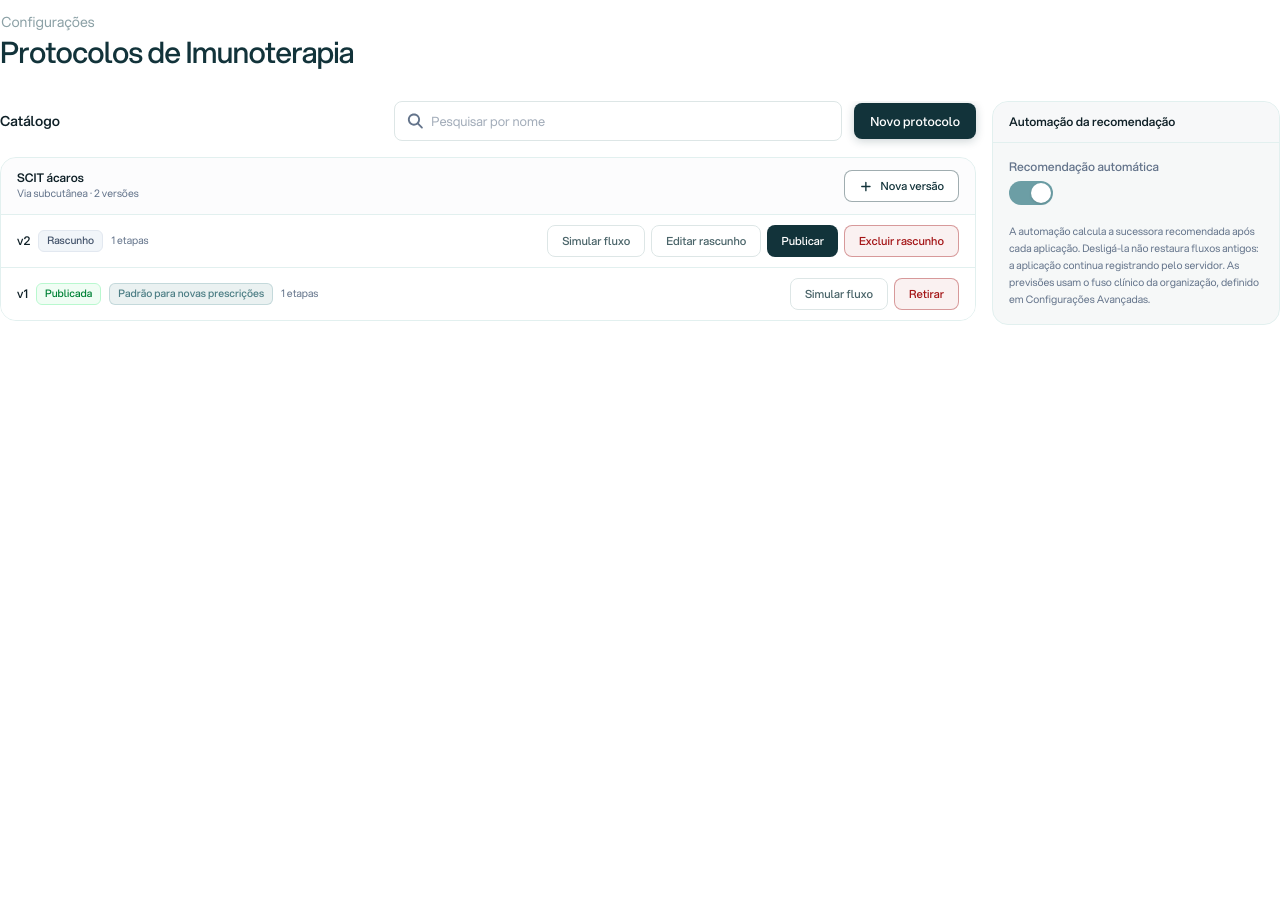
Test: decisão por código de erro › recusa de publicação (409 com regra de negócio) exibe feedback e preserva a intenção
The width and height of the screenshot is (1280, 900).
Expected: the heading "SCIT ácaros" is shown, 17,169 -> 84,186
Click the button "Publicar" at (803, 241), box 767,225 -> 838,257
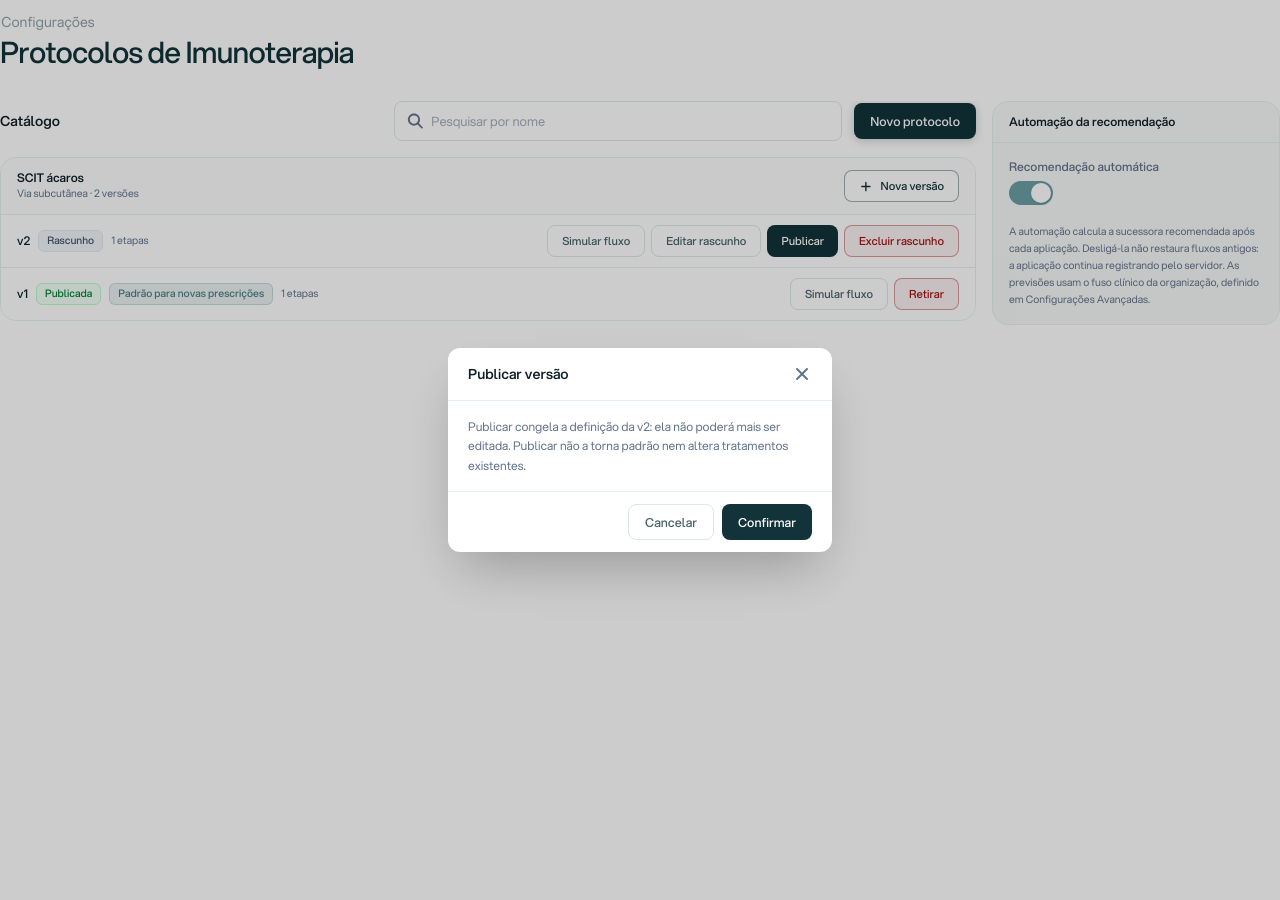
Click the button "Confirmar" at (767, 522), box 722,504 -> 812,540
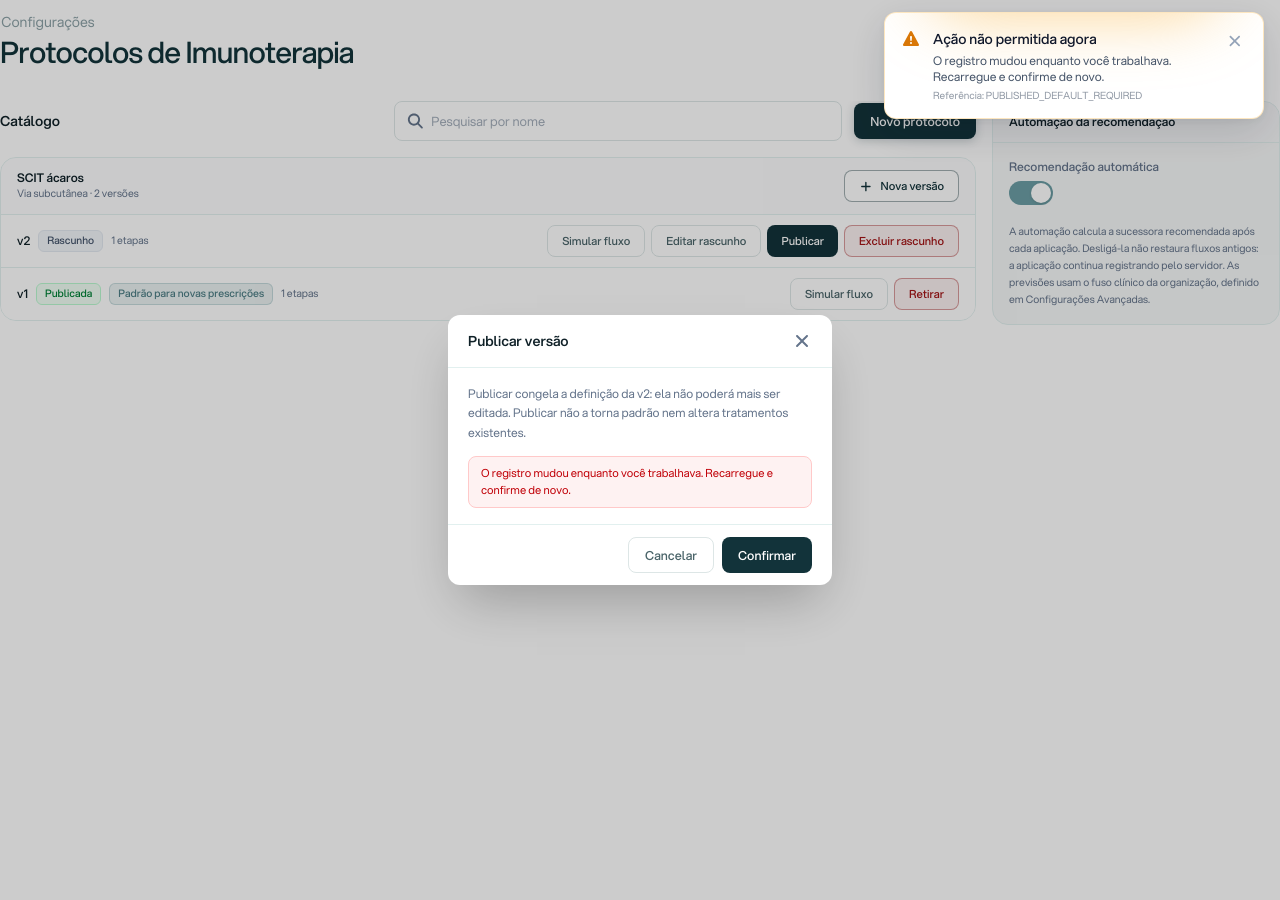
Expected: the button "Confirmar" is shown, 722,537 -> 812,573
Expected: the message "O registro mudou enquanto você trabalhava. Recarregue e confirme de novo." is shown, 468,456 -> 812,508
